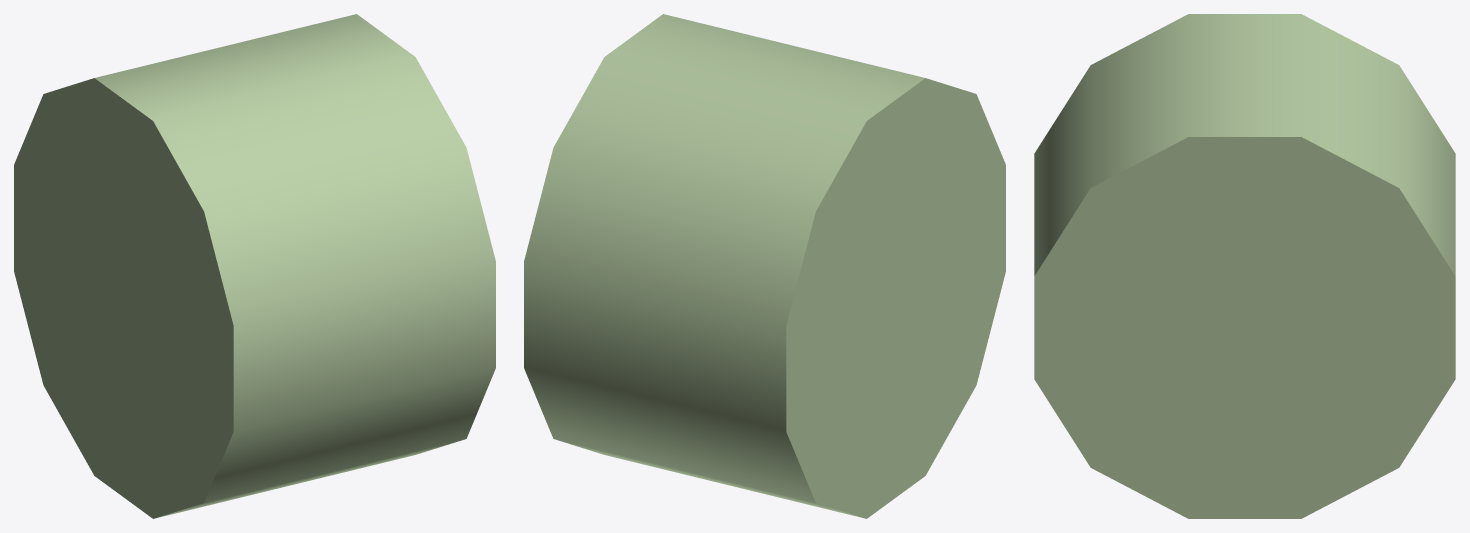
The model's file is original-22.obj.
The picture shows the model from 3 angles, left to right: view 1: azimuth 30°, elevation 25°; view 2: azimuth 150°, elevation 25°; view 3: azimuth 270°, elevation 25°; orthographic projection. The views are drawn at different scales.
Parts seen in each view (by area): view 1: Group16/mesh33/mesh33-geometry#mesh33-geometry; view 2: Group16/mesh33/mesh33-geometry#mesh33-geometry; view 3: Group16/mesh33/mesh33-geometry#mesh33-geometry.
Boxes of the visible parts, x1,y1,x2,y2 form: Group16/mesh33/mesh33-geometry#mesh33-geometry: [14, 14, 495, 518]; Group16/mesh33/mesh33-geometry#mesh33-geometry: [524, 14, 1005, 518]; Group16/mesh33/mesh33-geometry#mesh33-geometry: [1034, 14, 1455, 518].
Bounding box in the file's own units: 0.0127 × 0.0183 × 0.0183.
